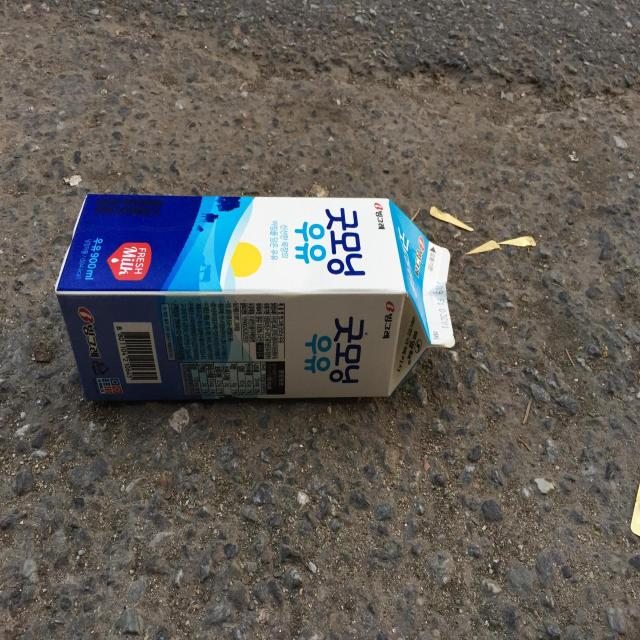paperpack: (55, 193, 455, 401)
